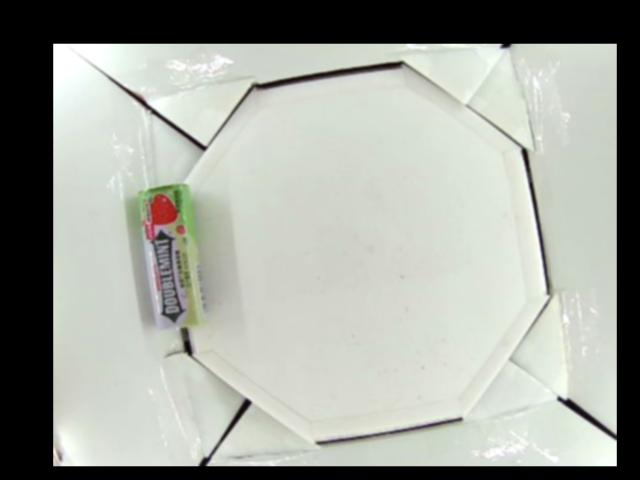Bottle: (139, 181, 207, 331)
